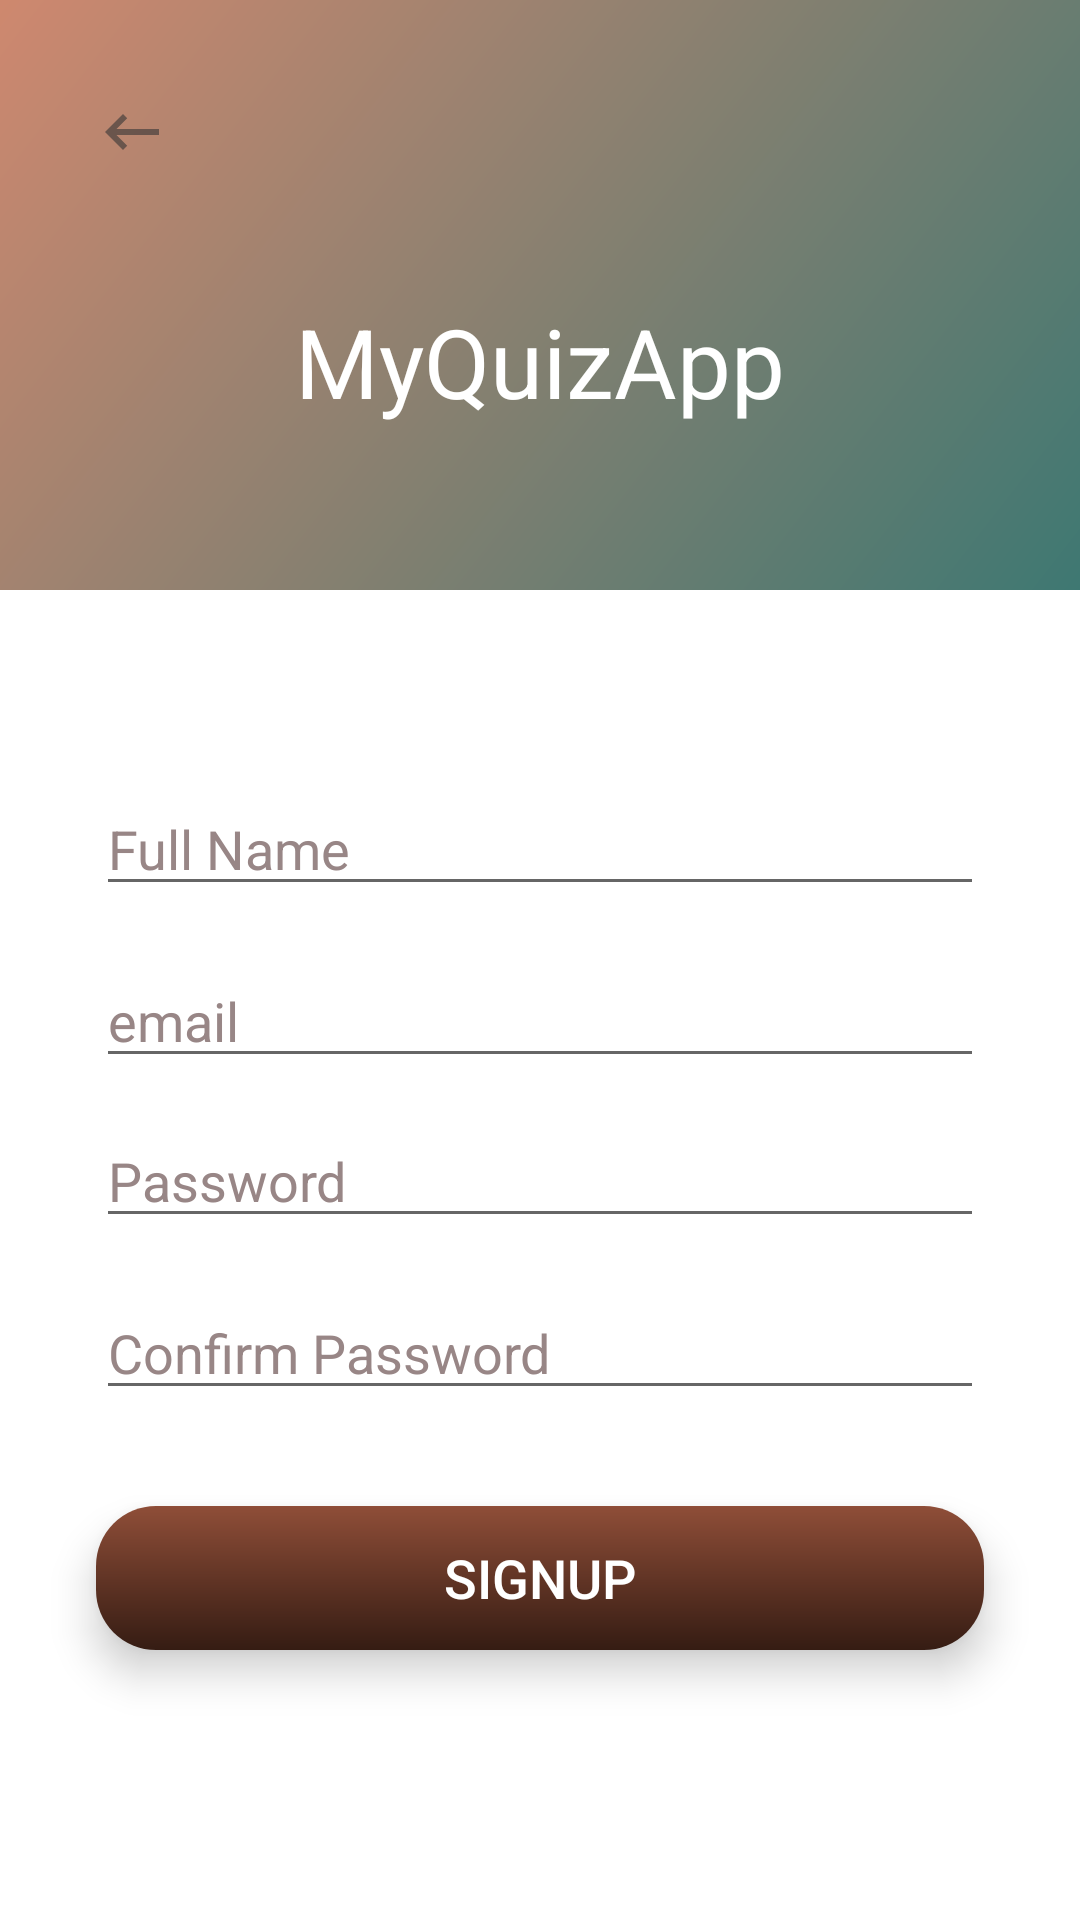

Named icons in this screenshot (1080x1920) and their centers, (x=x, y=y):
backarrow: (x=132, y=132)
